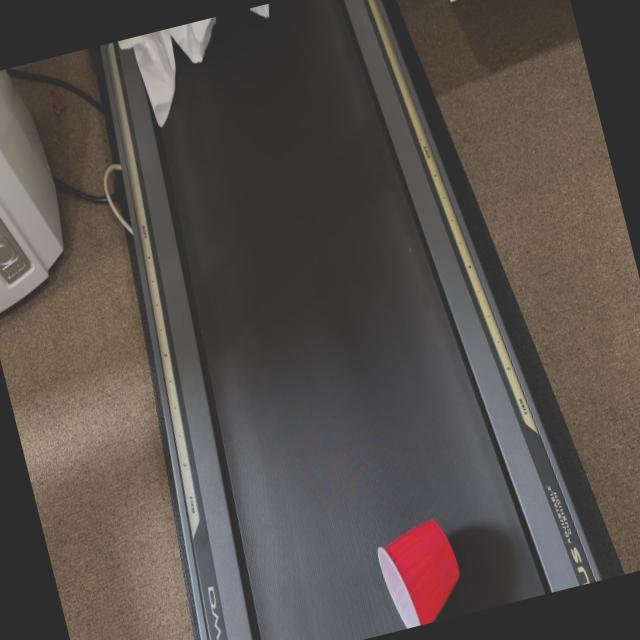Recycle: (373, 521, 476, 631)
